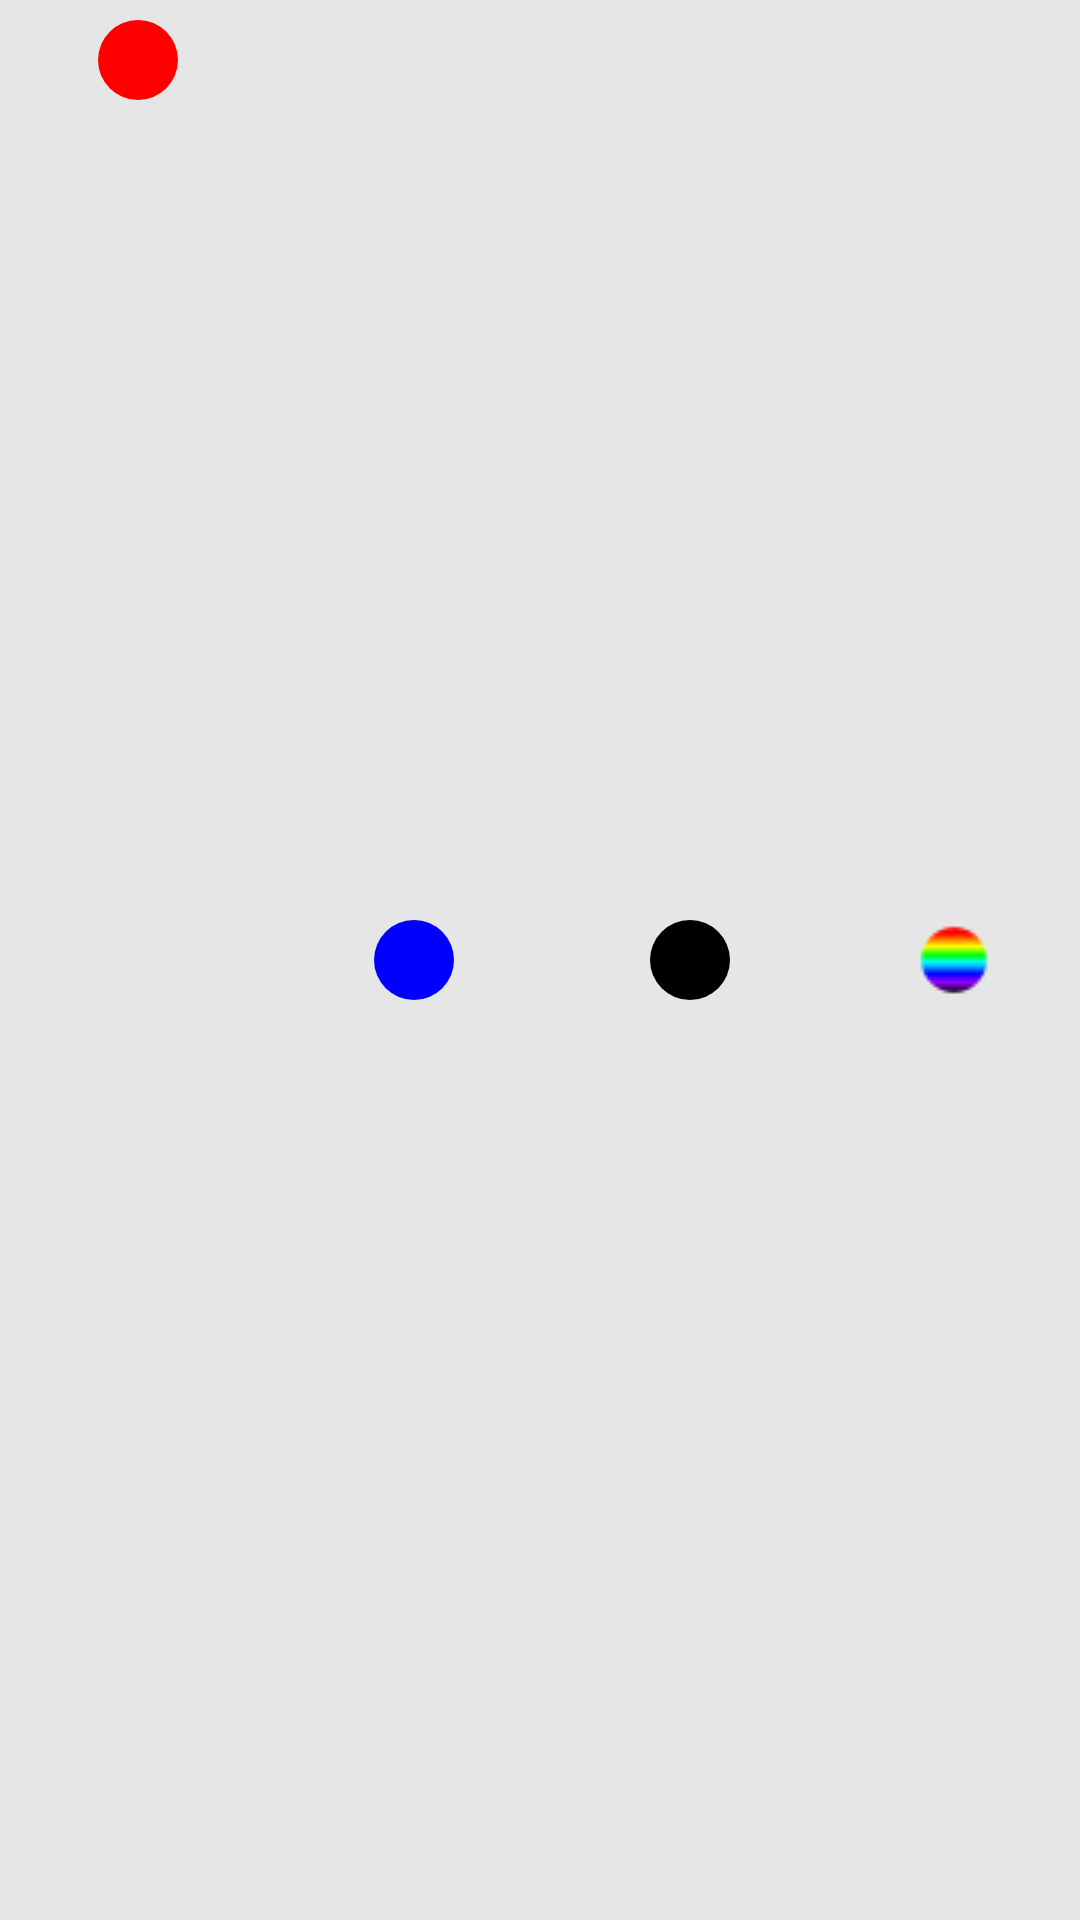

Screen size 1080x1920. Icon name, then its center in pixels as [x,y]:
rainbow: [954,960]
